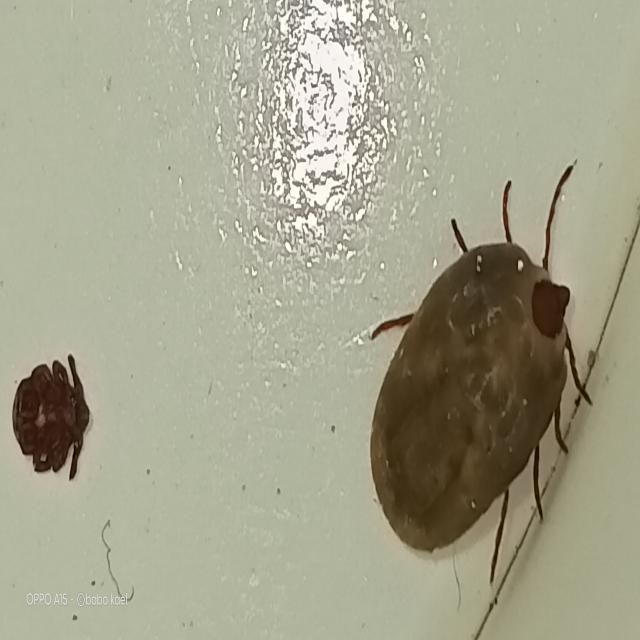Rhipicephalus Sanguineus-F-Fed: (369, 159, 591, 587)
